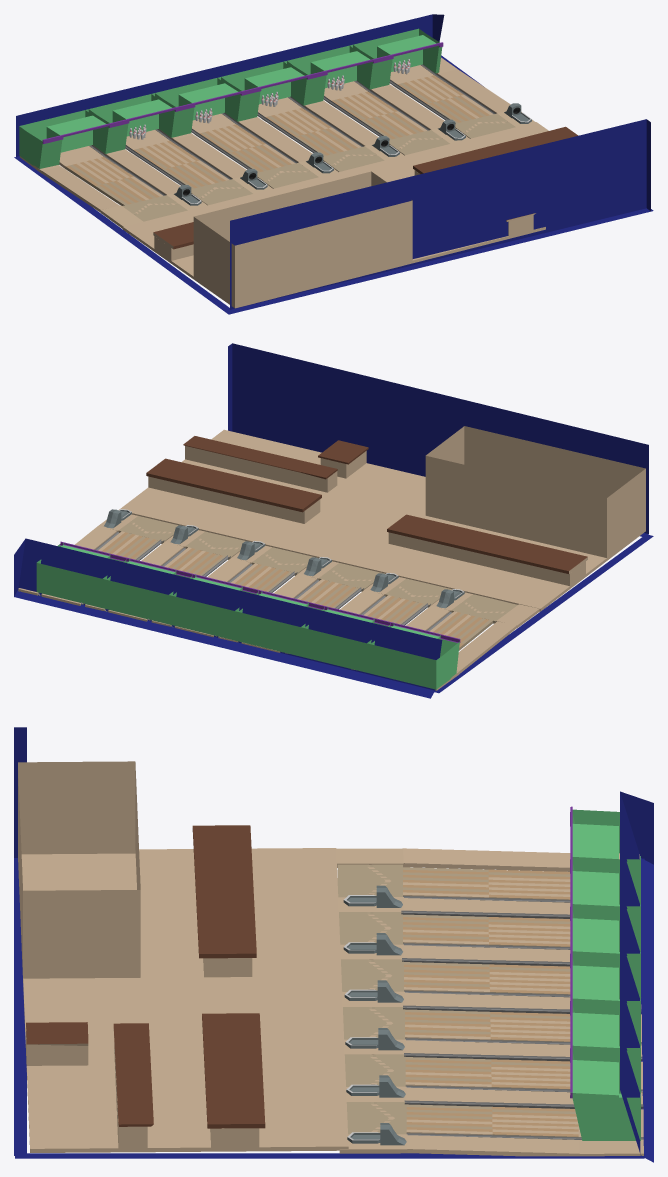
File: bowling_alley_2.fbx
3 views of the same model, one above another, from view 1: azimuth 30°, elevation 25°; view 2: azimuth 150°, elevation 25°; view 3: azimuth 270°, elevation 25° (orthographic). The views are drawn at different scales.
Parts seen in each view (by area): view 1: Cube.001; view 2: Cube.001; view 3: Cube.001.
Part boxes in pixels (box(x1,y1,x2,y2)): Cube.001: box(14, 14, 653, 314); Cube.001: box(14, 343, 653, 698); Cube.001: box(14, 727, 653, 1162).
Size of the model in its own units: 27430 by 5790 by 24400.
